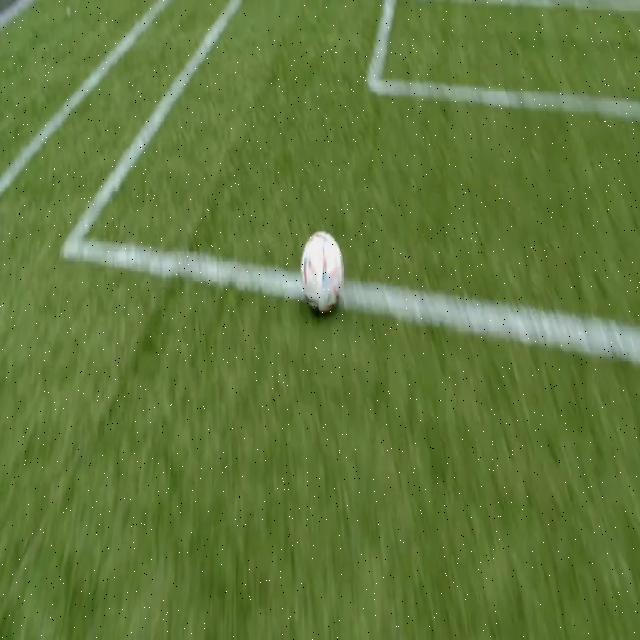ball: (301, 232, 344, 312)
